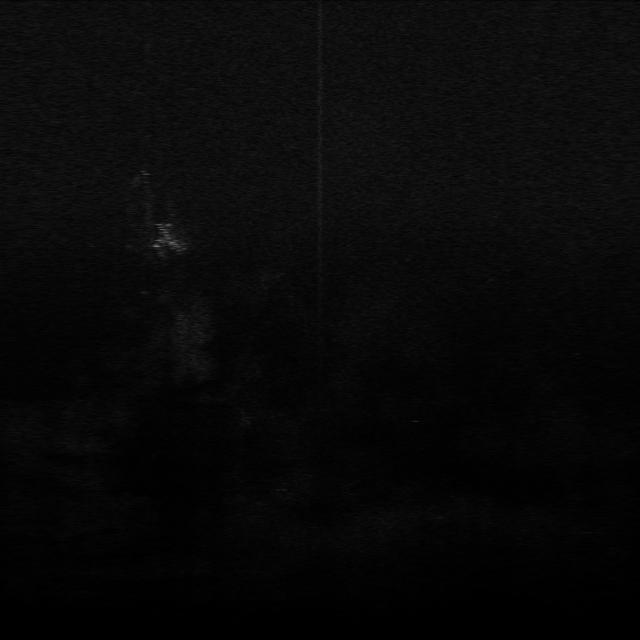rov: (147, 219, 182, 250)
